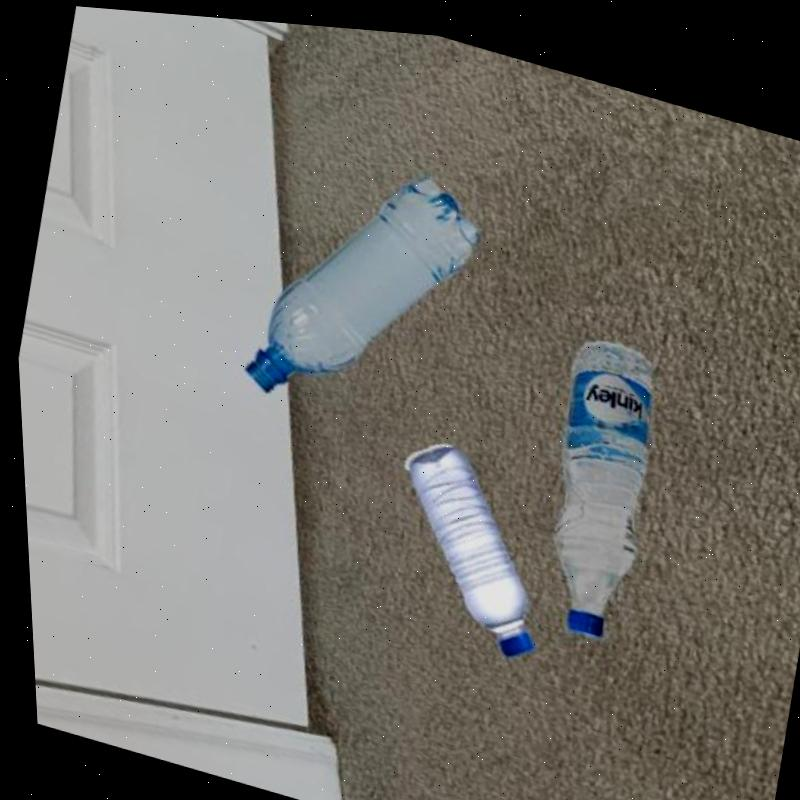botella: (230, 127, 496, 440), (515, 312, 681, 639), (367, 416, 564, 654)
